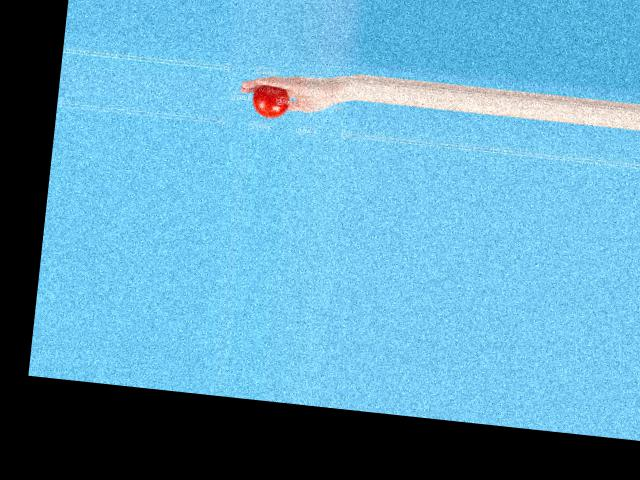tomato: (251, 84, 290, 119)
